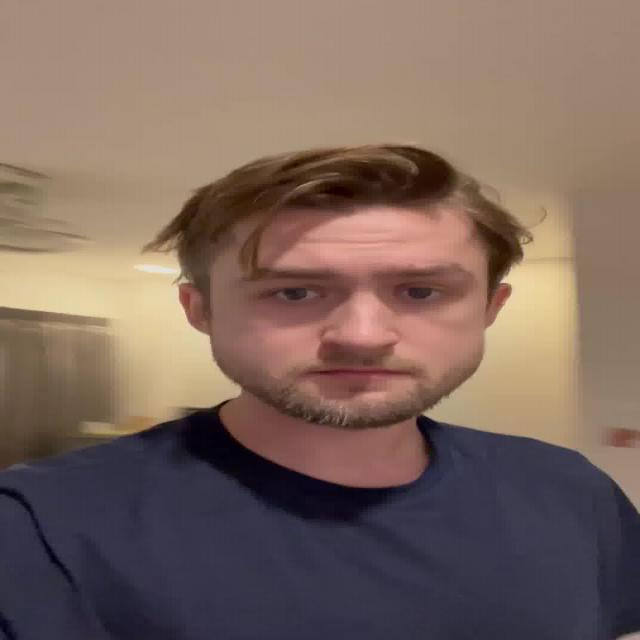earlobe: (178, 283, 212, 335), (484, 283, 513, 329)
